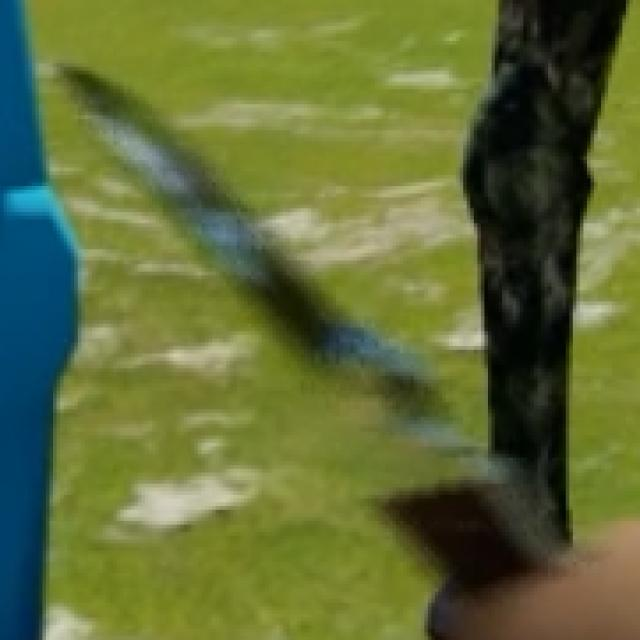Fknife: (54, 46, 551, 604)
